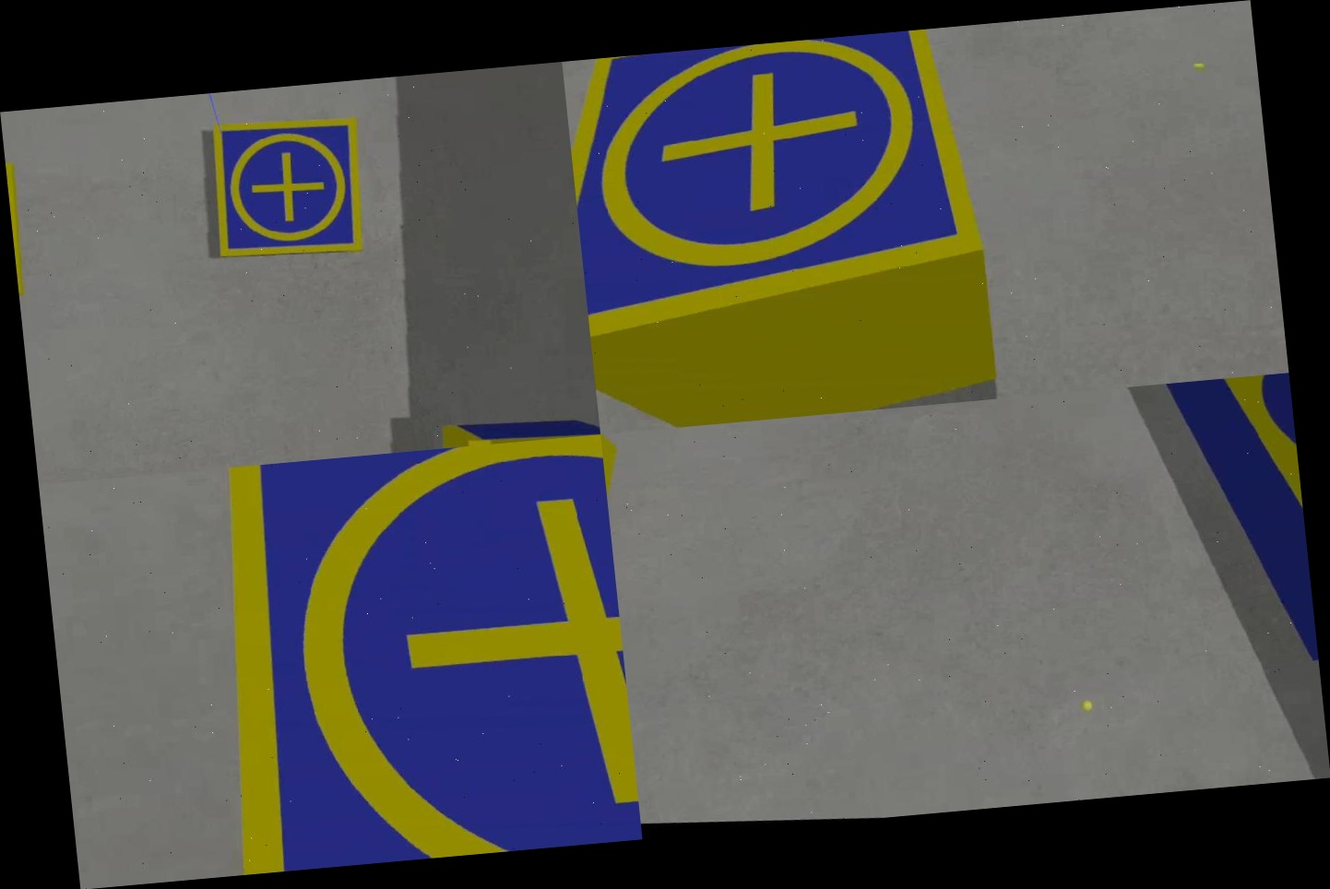large_base: (1099, 373, 1320, 700)
small_base: (183, 434, 642, 876), (562, 24, 1015, 384), (201, 109, 373, 267)
